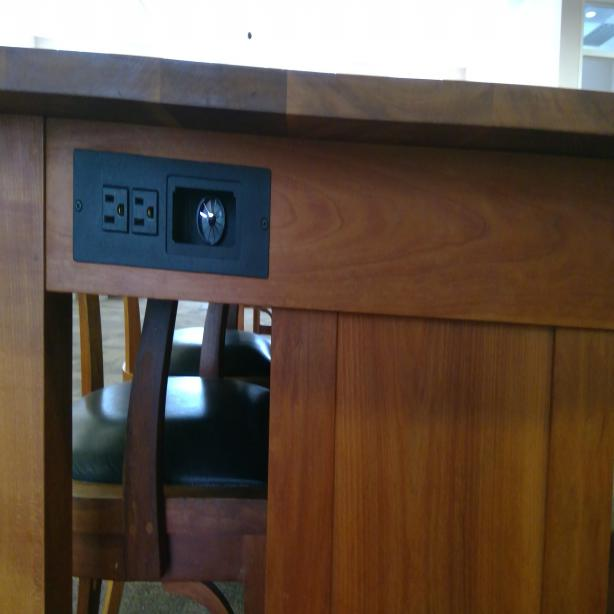typeb: (131, 190, 158, 237), (102, 188, 128, 234)
